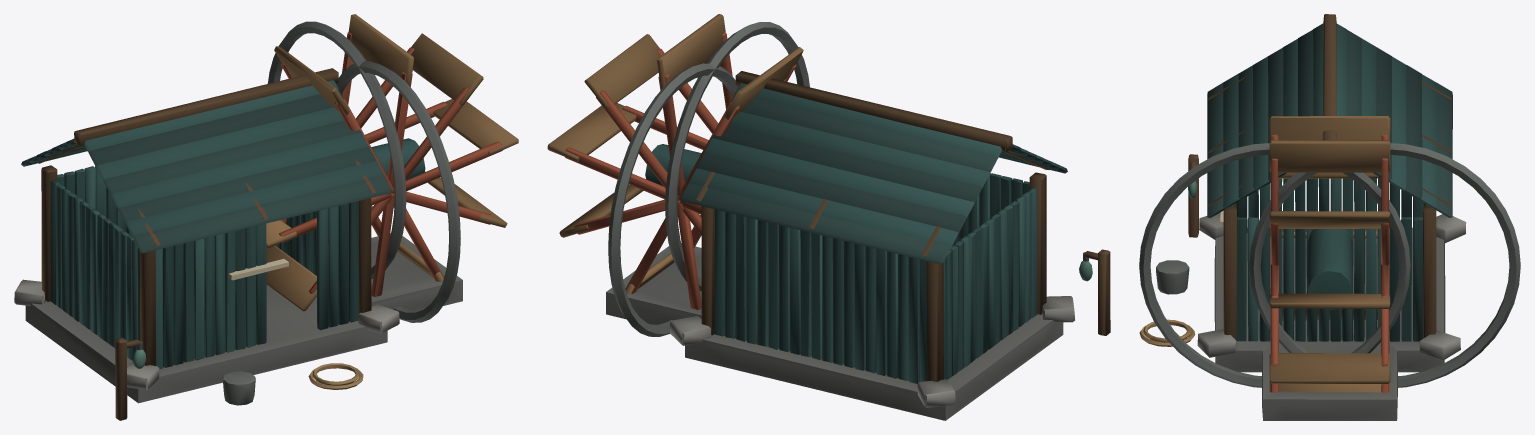
The model's file is sluice_shed_a_lod1.glb.
3 views of the same model, side by side, from view 1: azimuth 30°, elevation 25°; view 2: azimuth 150°, elevation 25°; view 3: azimuth 270°, elevation 25° (orthographic). The views are drawn at different scales.
Visible parts, largest first — view 1: Surface.001; view 2: Surface.001; view 3: Surface.001.
Boxes of the visible parts, x1=… form: Surface.001: x1=14, y1=14, x2=518, y2=420; Surface.001: x1=547, y1=14, x2=1110, y2=420; Surface.001: x1=1139, y1=14, x2=1520, y2=420.
Bounding box in the file's own units: 9.81 × 5.64 × 7.28.
